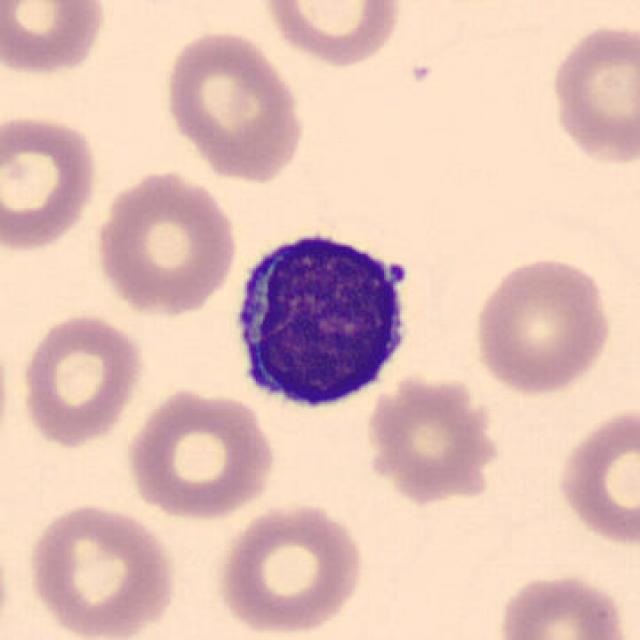Lymphocyte: (222, 215, 425, 418)
RBC: (158, 25, 308, 185), (90, 164, 242, 319), (121, 384, 281, 522), (213, 497, 368, 638), (23, 499, 180, 638), (469, 252, 615, 399), (361, 368, 505, 506), (16, 308, 149, 449), (0, 109, 103, 254), (546, 19, 640, 170), (551, 402, 638, 550), (256, 0, 407, 69), (494, 569, 635, 640), (0, 0, 110, 79), (0, 321, 14, 464)
